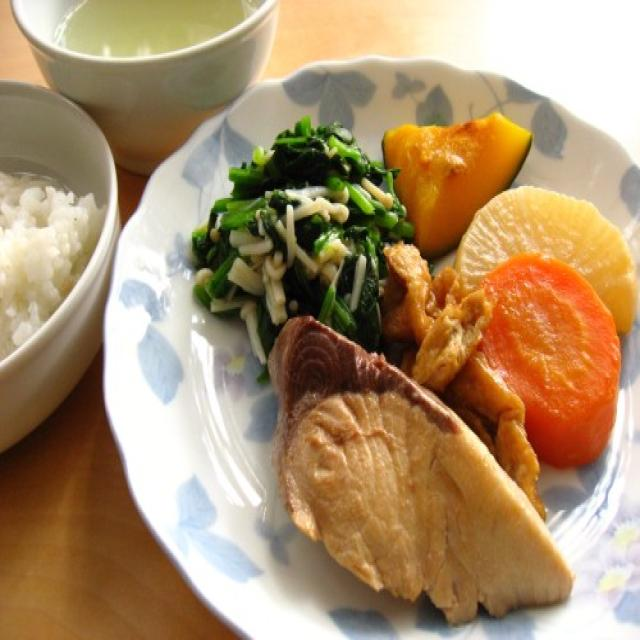熟制海鲜: (230, 290, 566, 640)
